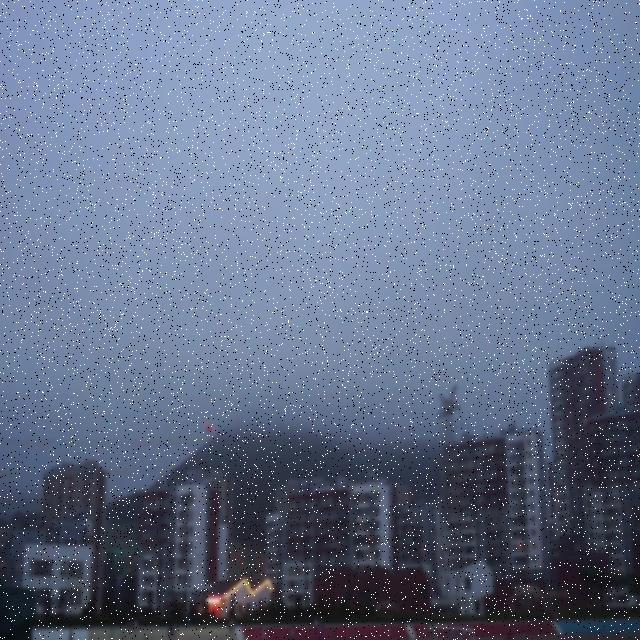UAV: (204, 423, 214, 433)
